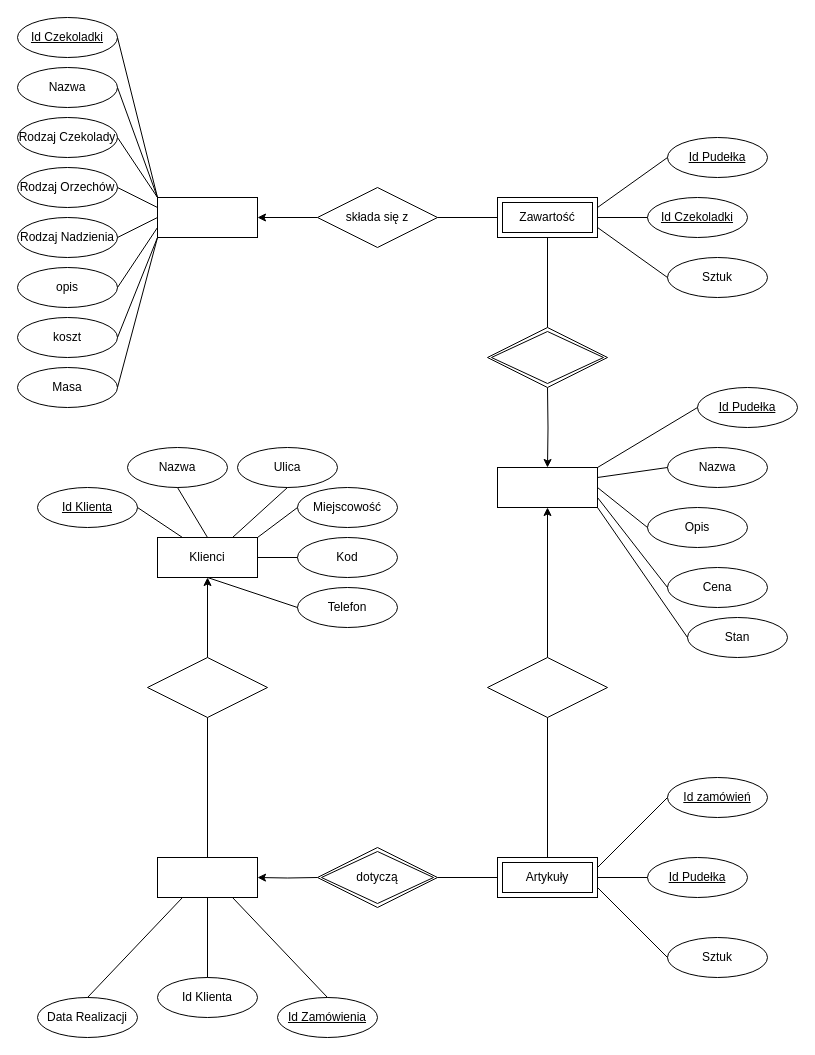
Some shapes in this 815 by 1055 pixel diagram are drawn without their labels. Each missing label, with the centre of its shape:
"Czekoladki" belongs at (207,217).
"mają" belongs at (547,687).
"posiadają" belongs at (547,357).
"Pudełka" belongs at (547,487).
"składają" belongs at (207,687).
"Zamówienia" belongs at (207,877).
